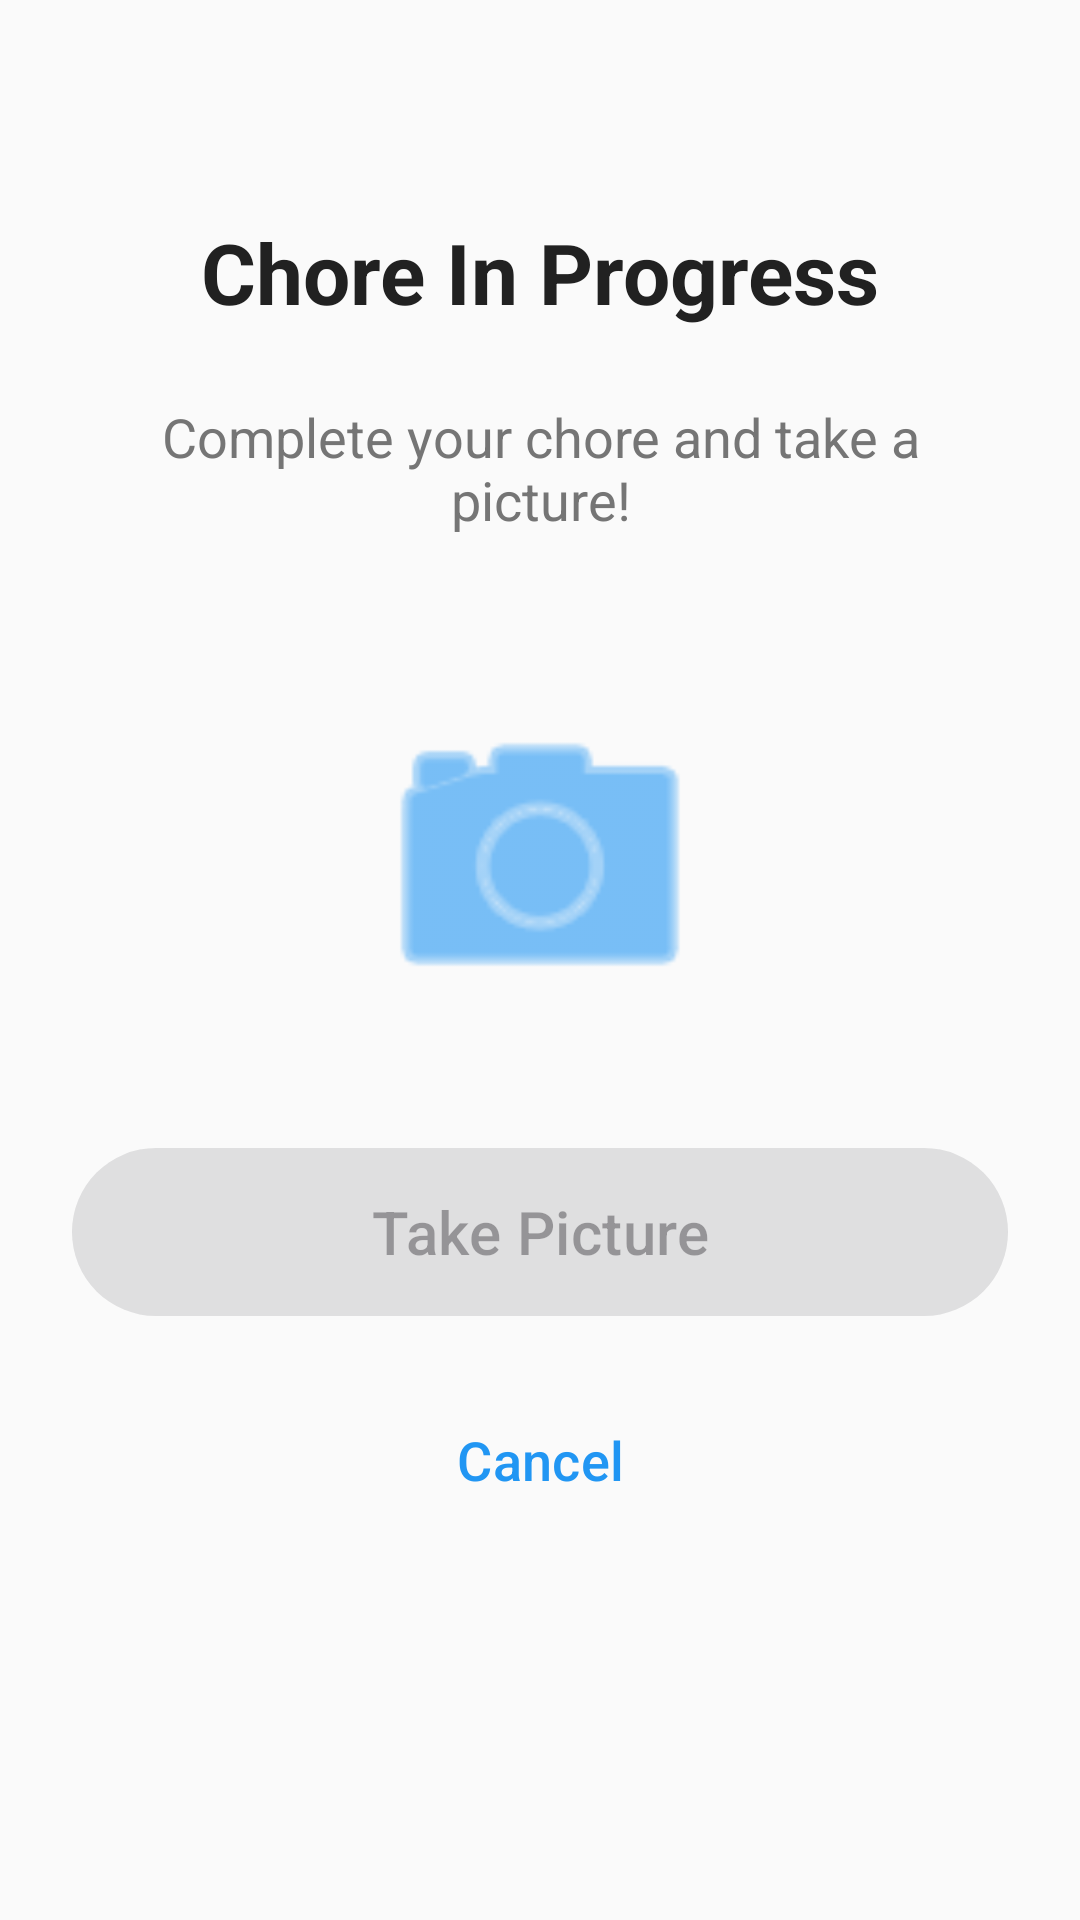

Point at icon controls on the screen. Image size 1080px x 1920px, points as (x,y).
camera: (540,854)
